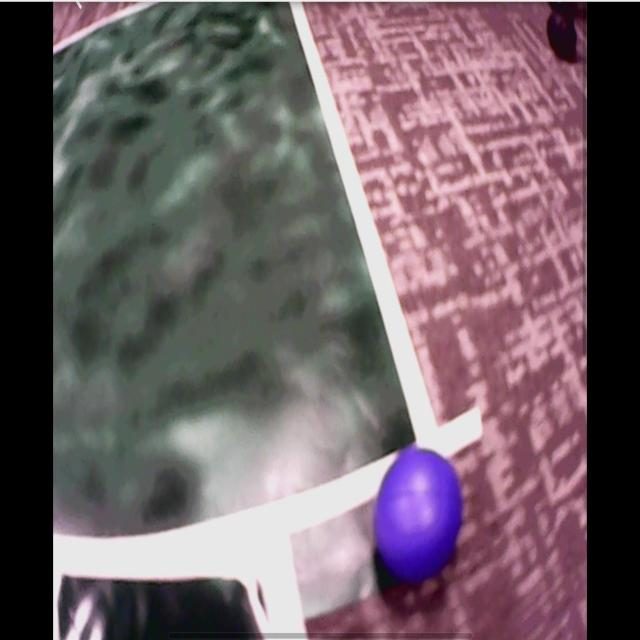ball: (378, 450, 463, 577)
